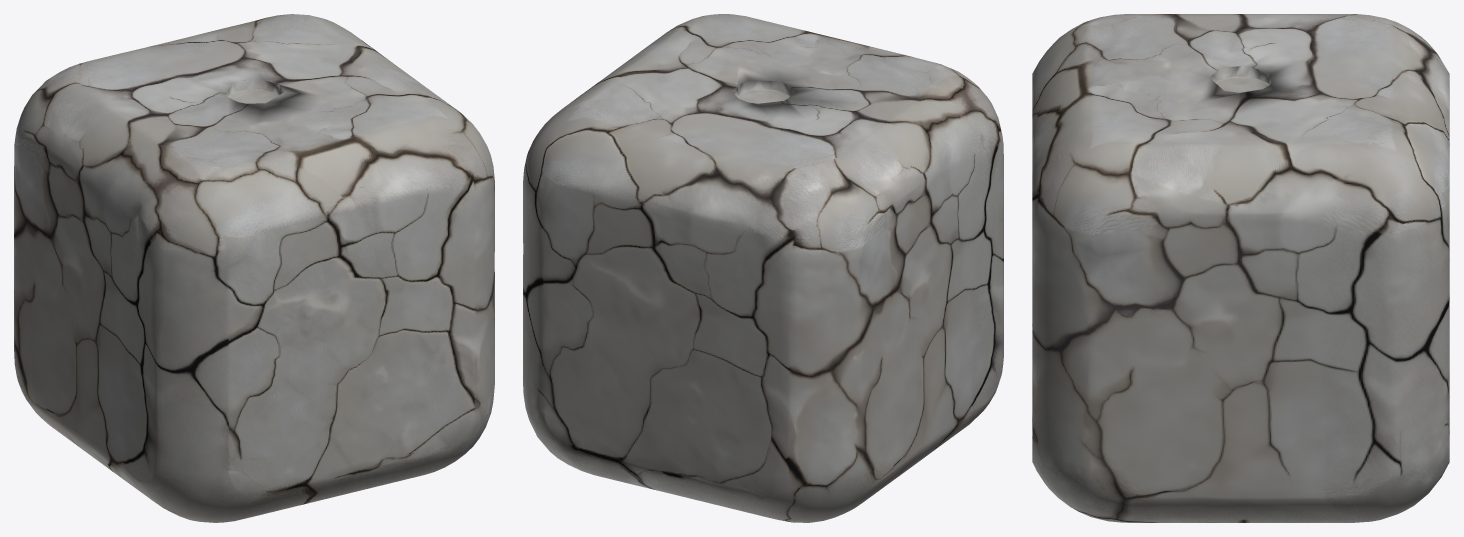
The picture shows the model from 3 angles, left to right: view 1: azimuth 30°, elevation 25°; view 2: azimuth 150°, elevation 25°; view 3: azimuth 270°, elevation 25°; orthographic projection. The views are drawn at different scales.
Visible parts, largest first — view 1: Mesh1.0; view 2: Mesh1.0; view 3: Mesh1.0.
Boxes of the visible parts, x1,y1,x2,y2 form: Mesh1.0: [14, 14, 494, 522]; Mesh1.0: [523, 14, 1003, 522]; Mesh1.0: [1032, 14, 1449, 522].
Size of the model in its own units: 1.91 by 1.91 by 1.91.
Materials: 1 (1 with a texture image).
